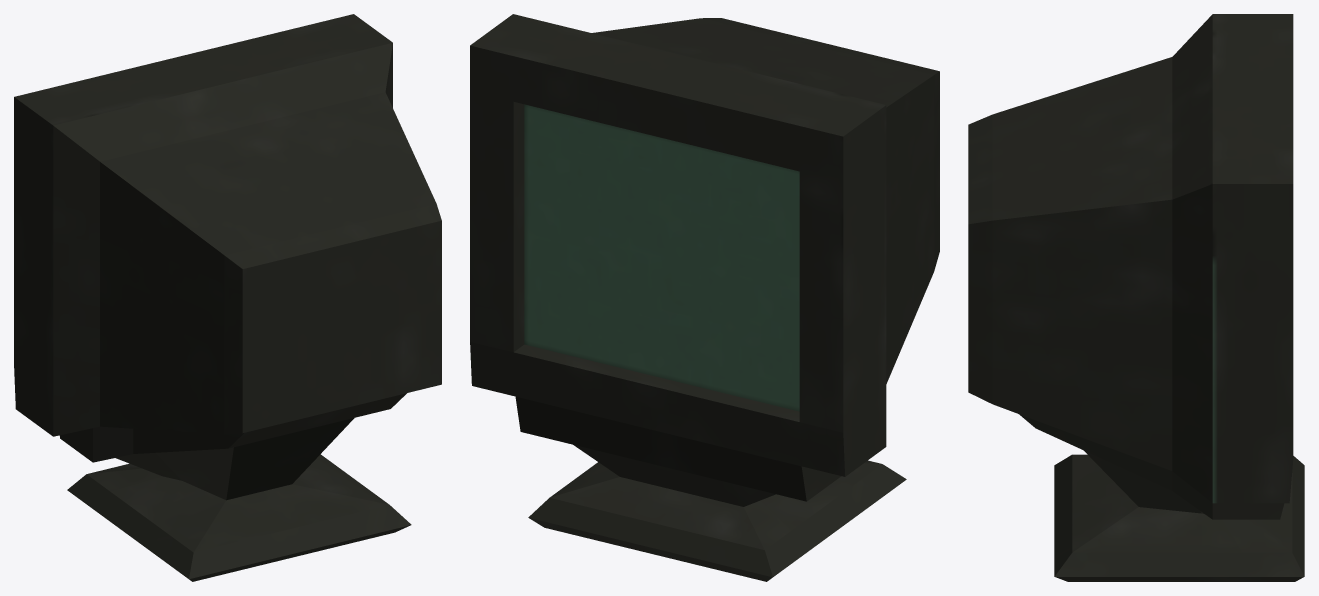
Rendered from monitor.fbx.
The picture shows the model from 3 angles, left to right: view 1: azimuth 30°, elevation 25°; view 2: azimuth 150°, elevation 25°; view 3: azimuth 270°, elevation 25°; orthographic projection. The views are drawn at different scales.
Visible parts, largest first — view 1: Cube; view 2: Cube; view 3: Cube.
Boxes of the visible parts, <box> form: Cube: <box>14,14,441,581</box>; Cube: <box>470,14,939,581</box>; Cube: <box>968,14,1304,581</box>.
Size of the model in its own units: 200 by 237 by 167.
Materials: 1 (1 with a texture image).
